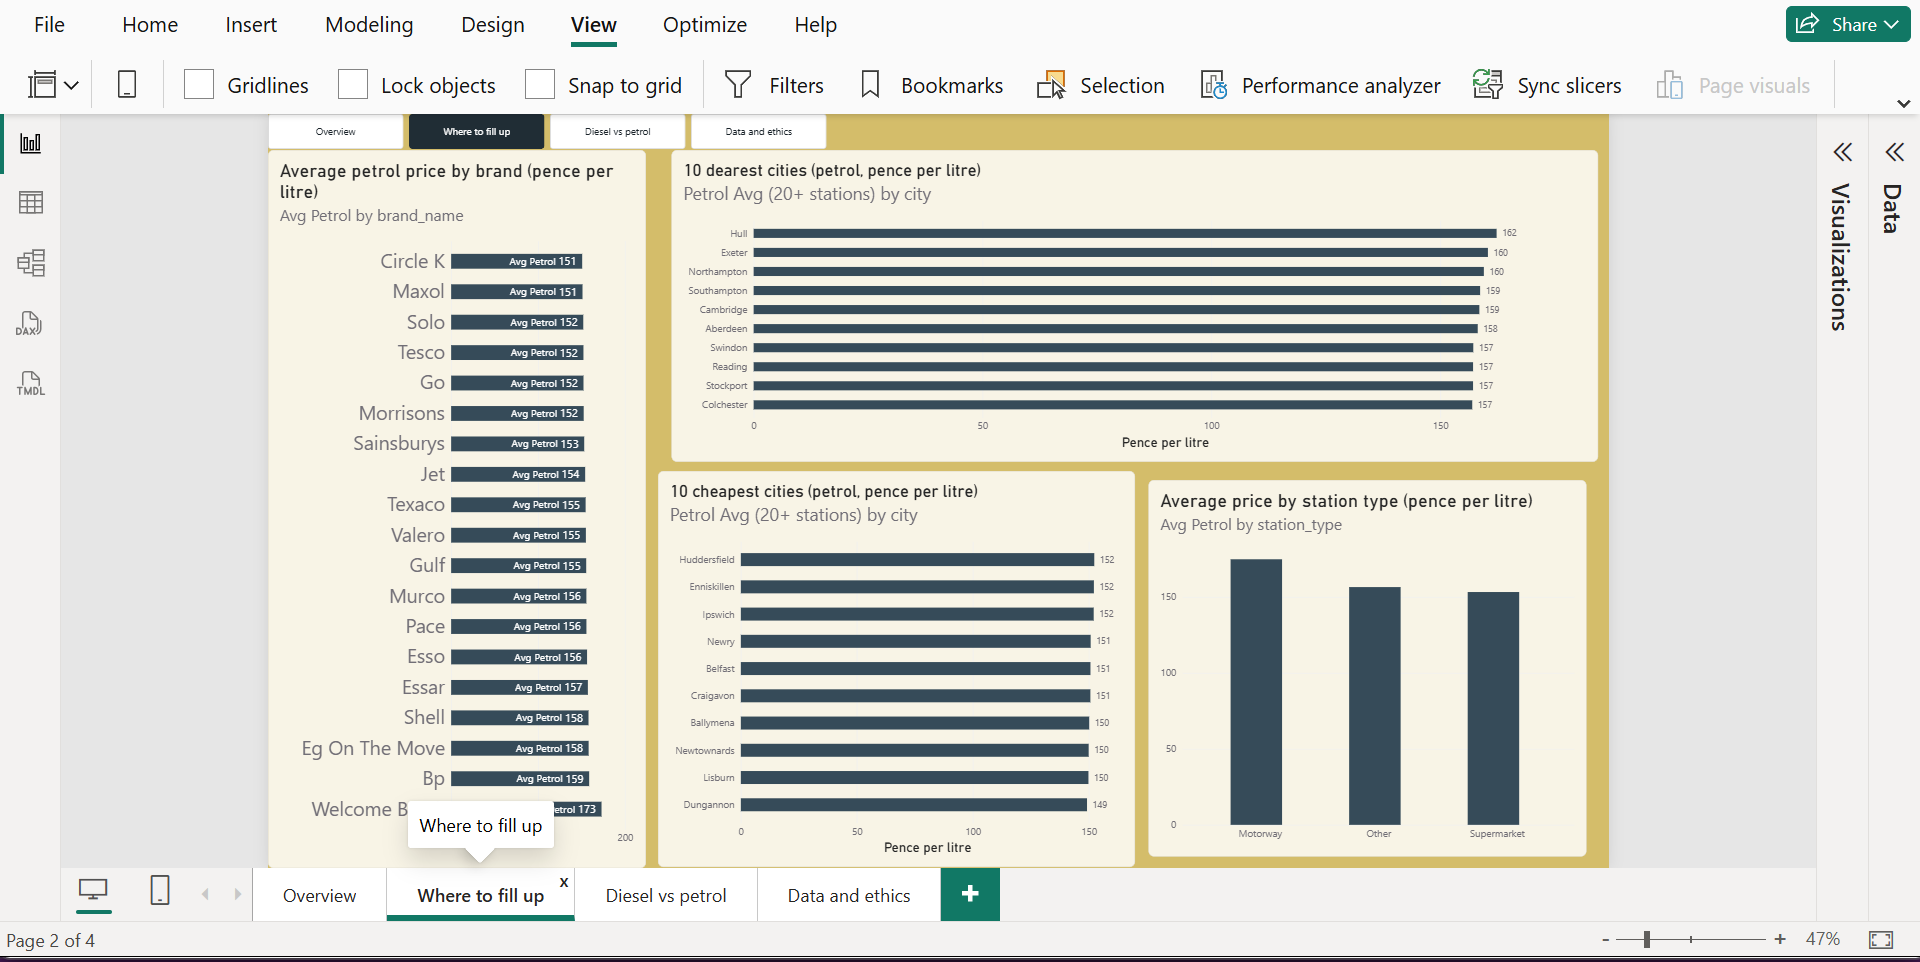

This screenshot's page, from the dashboard's own definition file:
{"tool":"powerbi","page":{"name":"Where ti fill up","canvas":[1920,1080],"ordinal":1},"visuals":[{"type":"clusteredBarChart","title":"Average petrol price by brand (pence per litre)","fields":{"Category":["stations_cleaned.brand_name"],"Y":["prices_cleaned.Avg Petrol"]},"box":[21.5,0,541.1,1082.1],"z":0},{"type":"clusteredColumnChart","title":"Average price by station type (pence per litre)","fields":{"Category":["stations_cleaned.station_type"],"Y":["prices_cleaned.Avg Petrol"]},"box":[1276.3,524.3,627.4,539.3],"z":1000},{"type":"clusteredBarChart","title":"10 cheapest cities (petrol, pence per litre)","fields":{"Category":["stations_cleaned.city"],"Y":["prices_cleaned.Petrol Avg (20+ stations)"]},"box":[578,511.4,683.3,567.2],"z":2000},{"type":"clusteredBarChart","title":"10 dearest cities (petrol, pence per litre)","fields":{"Category":["stations_cleaned.city"],"Y":["prices_cleaned.Petrol Avg (20+ stations)"]},"box":[578,0,1325.7,496.3],"z":3000}]}

Visuals, with their boxes on the page's 1920x1080 design canvas (x1, y1, x2, y2). These are canvas units, not pixel positions in the 1920x962 screenshot, which may show the page scaled, cropped or inside an application window:
"Average petrol price by brand (pence per litre)" clusteredBarChart: {"left": 22, "top": 0, "right": 563, "bottom": 1082}
"Average price by station type (pence per litre)" clusteredColumnChart: {"left": 1276, "top": 524, "right": 1904, "bottom": 1064}
"10 cheapest cities (petrol, pence per litre)" clusteredBarChart: {"left": 578, "top": 511, "right": 1261, "bottom": 1079}
"10 dearest cities (petrol, pence per litre)" clusteredBarChart: {"left": 578, "top": 0, "right": 1904, "bottom": 496}
